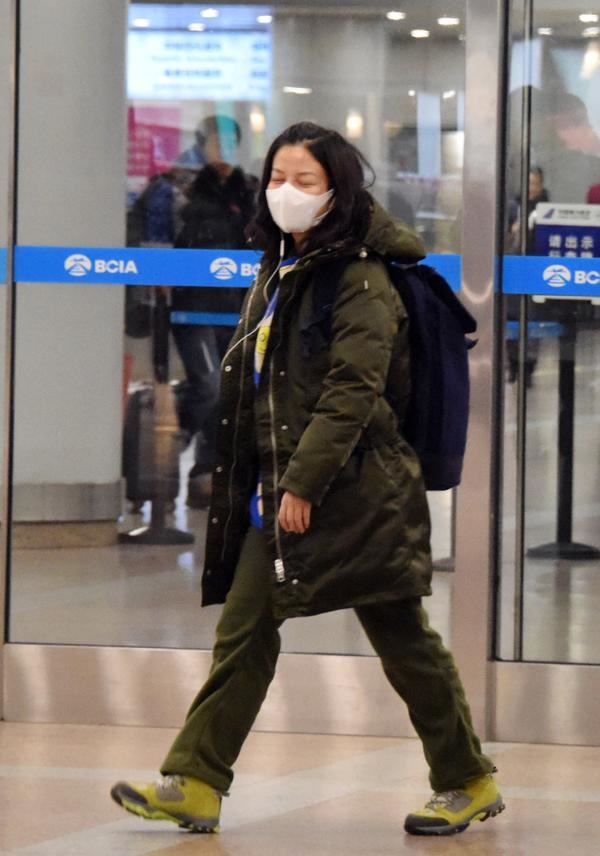face_mask: (267, 145, 328, 235)
